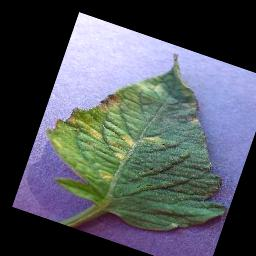Leaf_Mold: (34, 70, 150, 193), (140, 130, 168, 150)
